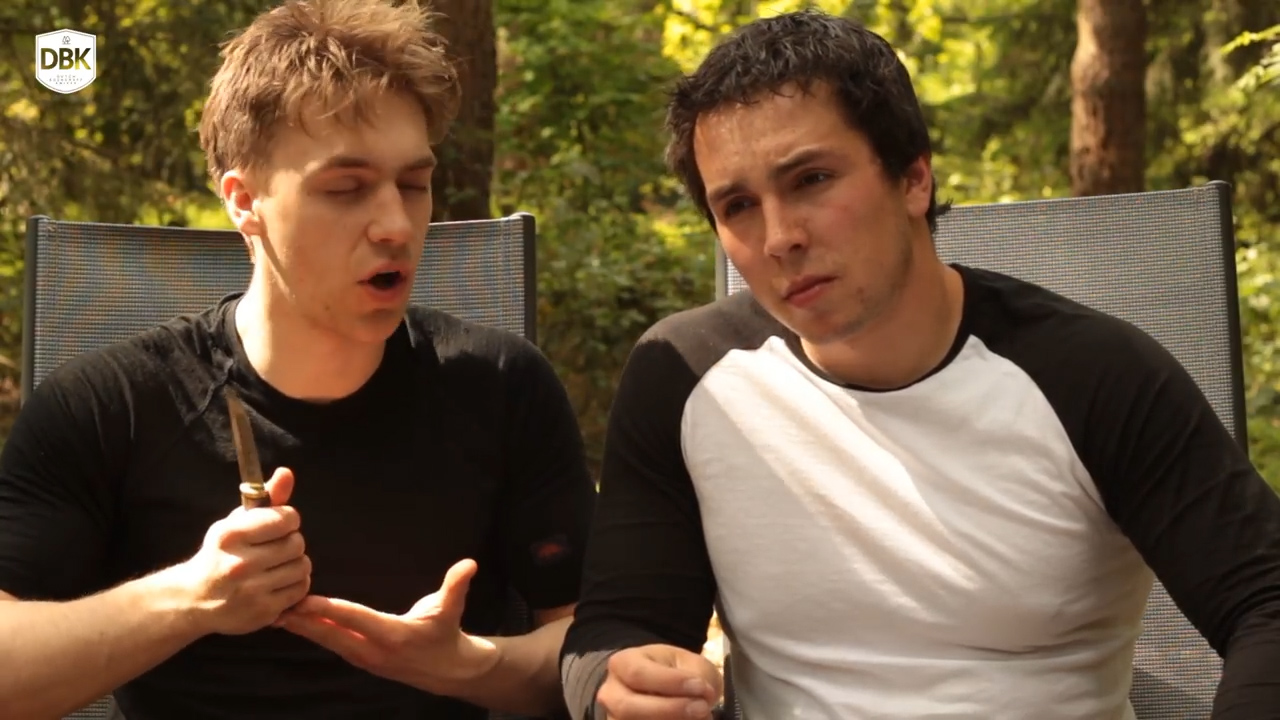knife: (203, 364, 322, 581)
